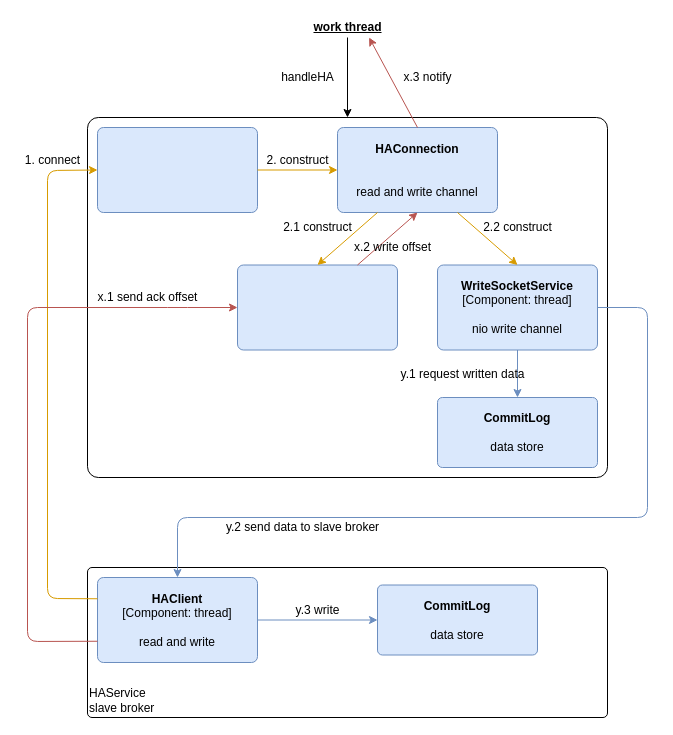
Image size: 673x735. Some labels were removed from this diagram. The shapes that lost their labels are listed below. From the top down, each one's box as (x1, y1, x2, y2) in pixels, then its label:
(96, 126, 258, 212): AccpetSocketService [Component: thread ] nio ServerSocketChannel
(236, 264, 398, 350): ReadSocketService [Component: thread ] nio read channel
(86, 116, 608, 478): HAService master broker
